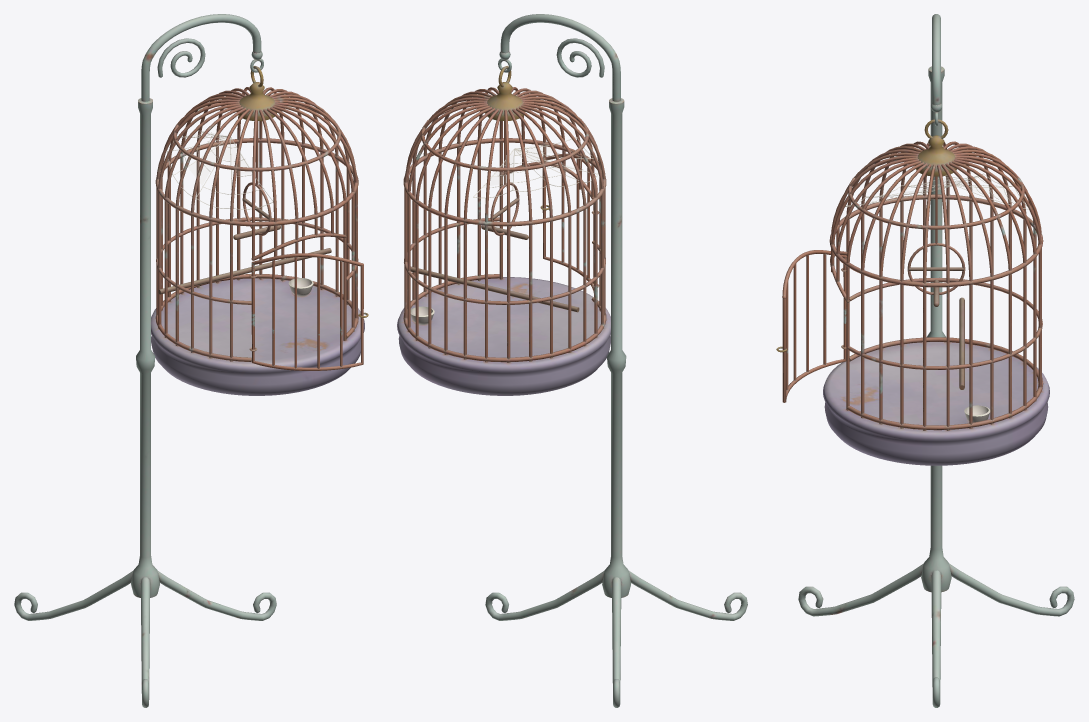
The model's file is rusty-cage.glb.
The picture shows the model from 3 angles, left to right: view 1: azimuth 30°, elevation 25°; view 2: azimuth 150°, elevation 25°; view 3: azimuth 270°, elevation 25°; orthographic projection. The views are drawn at different scales.
Visible parts, largest first — view 1: rusty-cage_body, rusty-cage_door, rusty-cage_web; view 2: rusty-cage_body, rusty-cage_door, rusty-cage_web; view 3: rusty-cage_body, rusty-cage_door, rusty-cage_web.
Part boxes in pixels (bbox=[...]): rusty-cage_body: bbox=[14, 14, 364, 707]; rusty-cage_door: bbox=[251, 253, 368, 370]; rusty-cage_web: bbox=[167, 130, 273, 209]; rusty-cage_body: bbox=[397, 14, 747, 707]; rusty-cage_door: bbox=[540, 153, 597, 296]; rusty-cage_web: bbox=[473, 137, 598, 198]; rusty-cage_body: bbox=[798, 14, 1074, 707]; rusty-cage_door: bbox=[776, 250, 846, 402]; rusty-cage_web: bbox=[845, 173, 1028, 209].
Size of the model in its own units: 0.9018 by 1.96 by 0.8135.
4 materials, 2 textured.
